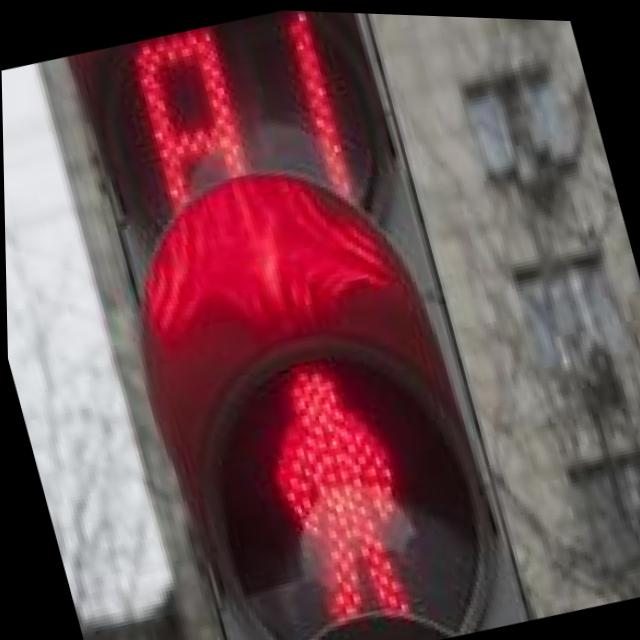red_light: (139, 267, 537, 640), (2, 0, 468, 272)
